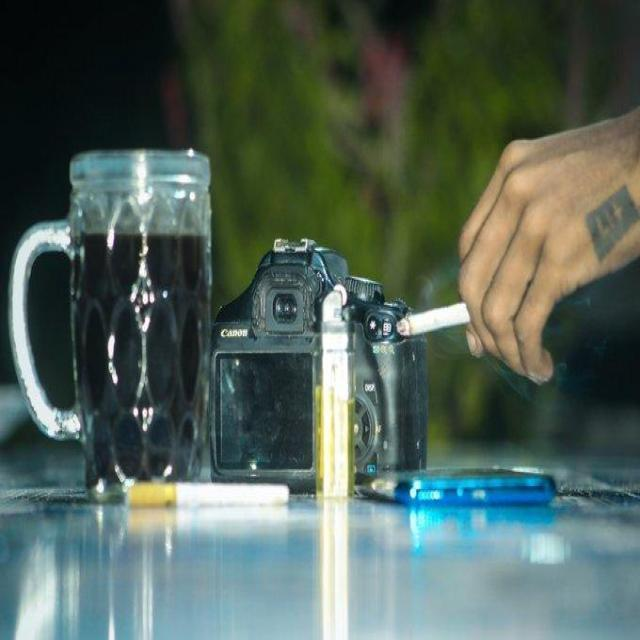rokok: (120, 471, 300, 521), (391, 294, 477, 346)
